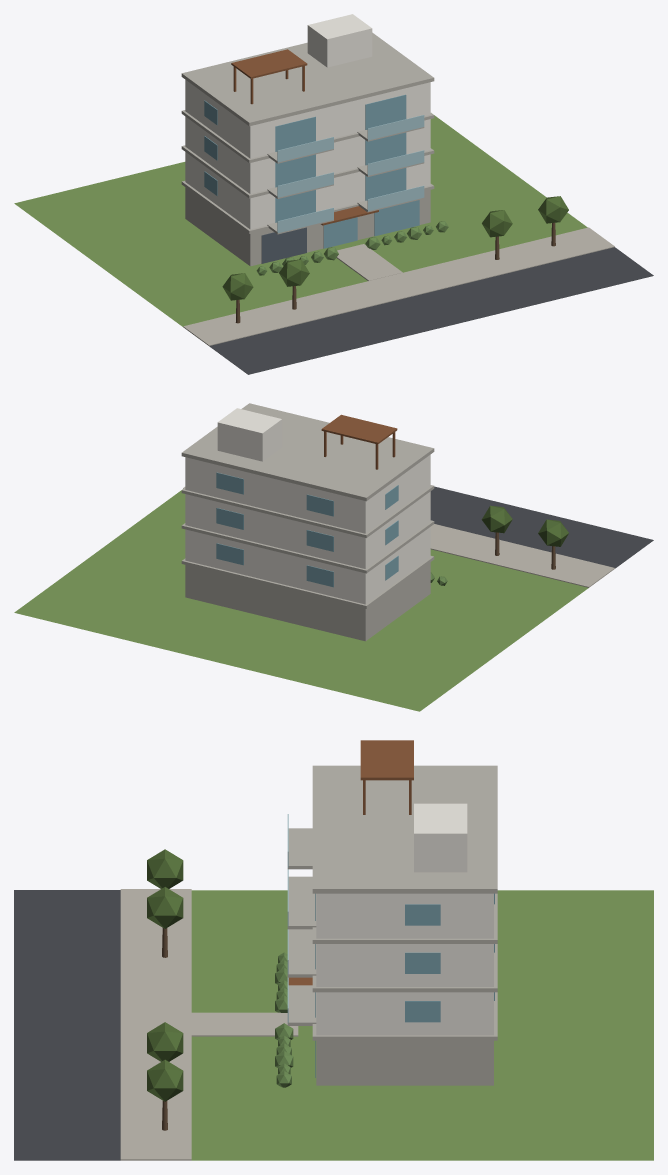
The model's file is edificio-las-lomas.glb.
3 renders of one model, top to bottom at view 1: azimuth 30°, elevation 25°; view 2: azimuth 150°, elevation 25°; view 3: azimuth 270°, elevation 25°, orthographic. The views are drawn at different scales.
Visible parts, largest first — view 1: Terreno, Calle, Vereda, Terraza, Ventanal (×6), Piso 3, Piso 2, Piso 1, Baranda (×6), Planta baja, Sala de máquinas, Copa (×4) (+8 smaller); view 2: Terreno, Terraza, Planta baja, Piso 3, Piso 2, Piso 1, Calle, Vereda, Sala de máquinas, Ventana trasera (×6), Losa 2, Losa 3 (+3 smaller); view 3: Terreno, Calle, Terraza, Vereda, Planta baja, Piso 3, Piso 1, Piso 2, Copa (×4), Sala de máquinas, Ventana lateral (×3), Acceso (+8 smaller).
Part boxes in pixels (x1=…): Terreno: x1=14, y1=115, x2=587, y2=326; Calle: x1=209, y1=247, x2=653, y2=374; Vereda: x1=183, y1=227, x2=614, y2=345; Terraza: x1=181, y1=32, x2=434, y2=126; Ventanal (×6): x1=275, y1=94, x2=406, y2=222; Piso 3: x1=185, y1=80, x2=430, y2=158; Piso 2: x1=185, y1=116, x2=430, y2=193; Piso 1: x1=185, y1=152, x2=430, y2=229; Baranda (×6): x1=277, y1=115, x2=424, y2=233; Planta baja: x1=185, y1=187, x2=430, y2=266; Sala de máquinas: x1=307, y1=14, x2=372, y2=67; Copa (×4): x1=222, y1=196, x2=568, y2=300; Terreno: x1=14, y1=489, x2=588, y2=711; Terraza: x1=181, y1=403, x2=434, y2=501; Planta baja: x1=185, y1=562, x2=430, y2=641; Piso 3: x1=185, y1=454, x2=430, y2=533; Piso 2: x1=185, y1=491, x2=430, y2=568; Piso 1: x1=185, y1=527, x2=430, y2=604; Calle: x1=430, y1=486, x2=653, y2=568; Vereda: x1=183, y1=487, x2=614, y2=587; Sala de máquinas: x1=217, y1=408, x2=282, y2=461; Ventana trasera (×6): x1=216, y1=472, x2=333, y2=587; Losa 2: x1=181, y1=520, x2=434, y2=573; Losa 3: x1=181, y1=485, x2=434, y2=537; Terreno: x1=191, y1=890, x2=653, y2=1160; Calle: x1=14, y1=890, x2=120, y2=1160; Terraza: x1=312, y1=765, x2=497, y2=893; Vereda: x1=120, y1=889, x2=191, y2=1160; Planta baja: x1=316, y1=1040, x2=493, y2=1085; Piso 3: x1=316, y1=893, x2=493, y2=938; Piso 1: x1=316, y1=992, x2=493, y2=1035; Piso 2: x1=316, y1=944, x2=493, y2=986; Copa (×4): x1=147, y1=849, x2=183, y2=1101; Sala de máquinas: x1=414, y1=803, x2=467, y2=872; Ventana lateral (×3): x1=405, y1=904, x2=440, y2=1022; Acceso: x1=191, y1=1012, x2=298, y2=1036.
Bounding box in the file's own units: 36 × 14.86 × 36.
